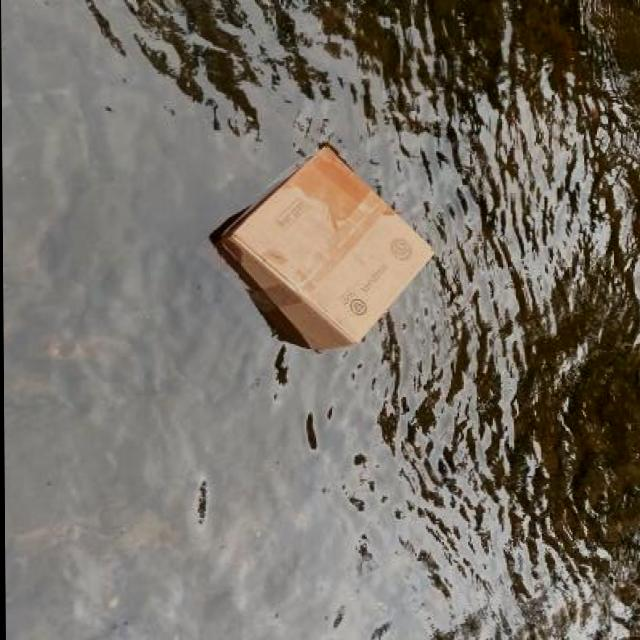Cardboard: (209, 139, 440, 359)
